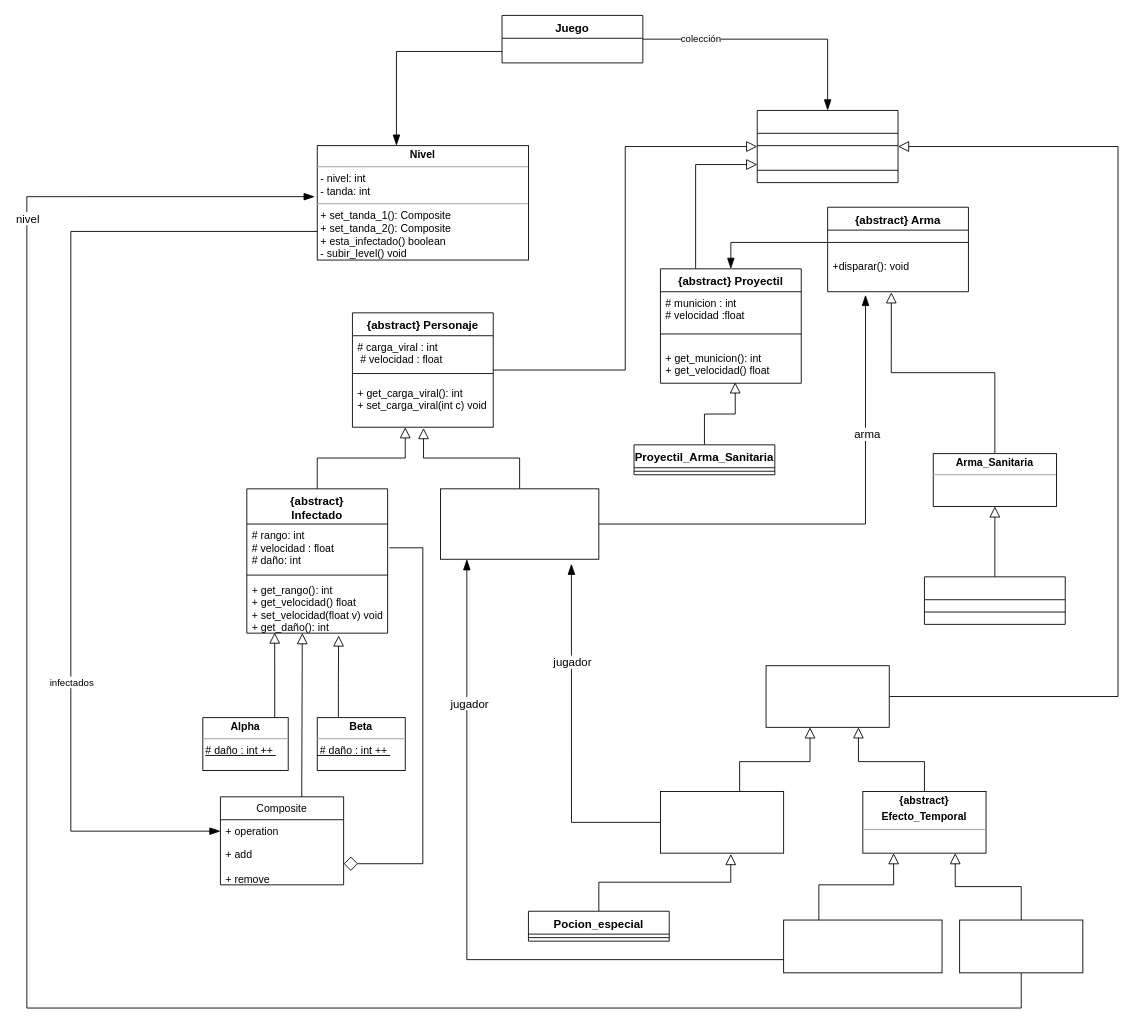
Image size: 1144x1034. Some labels were removed from this diagram. The centre of each missing label's shape, as x and y in pixels:
Efecto_Cuarentena: (x=1021, y=946)
Efecto_Super_Arma_Sanitaria: (x=862, y=946)
Player + get_arma() Arma + set_arma(Arma a) void: (x=519, y=523)
Super_Arma_Sanitaria: (x=994, y=600)
{abstract} Entidad: (x=827, y=146)
{abstract} Objeto_Precioso: (x=722, y=822)
{abstract} Premio # velocidad : float: (x=827, y=696)
